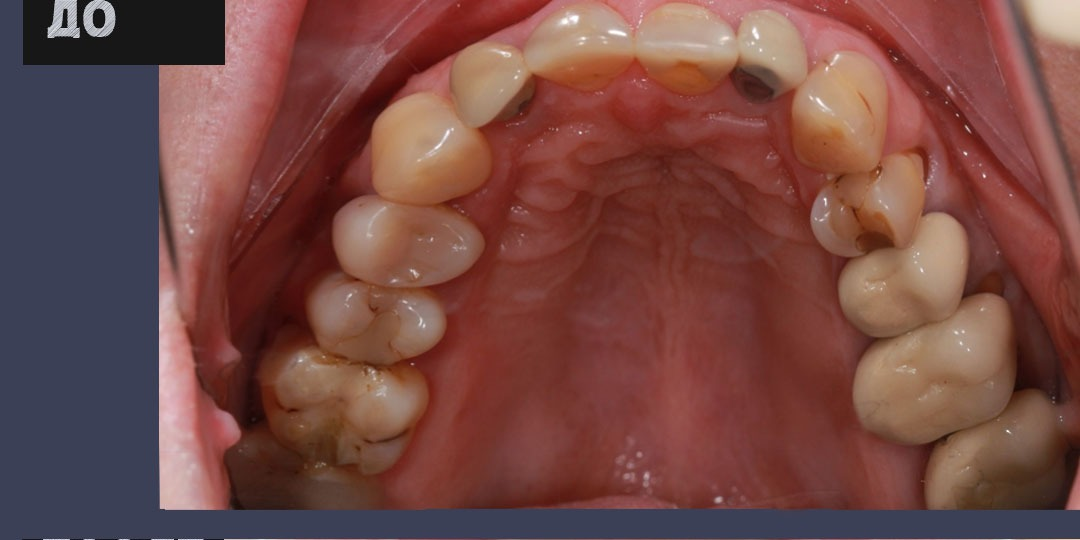UL1BC_decay: (812, 163, 926, 256)
UL1M_healthy: (853, 319, 1016, 433)
UL2BC_healthy: (843, 235, 967, 327)
UL2M_healthy: (933, 428, 1063, 512)
ULCI_decay: (634, 5, 736, 101)
ULC_healthy: (795, 57, 890, 177)
ULLI_decay: (736, 8, 804, 104)
UR1BC_healthy: (337, 201, 484, 285)
UR1M_decay: (273, 349, 423, 469)
UR2BC_decay: (309, 282, 448, 363)
URCI_healthy: (523, 5, 631, 93)
URC_healthy: (370, 102, 489, 198)
URLI_decay: (452, 43, 536, 127)
